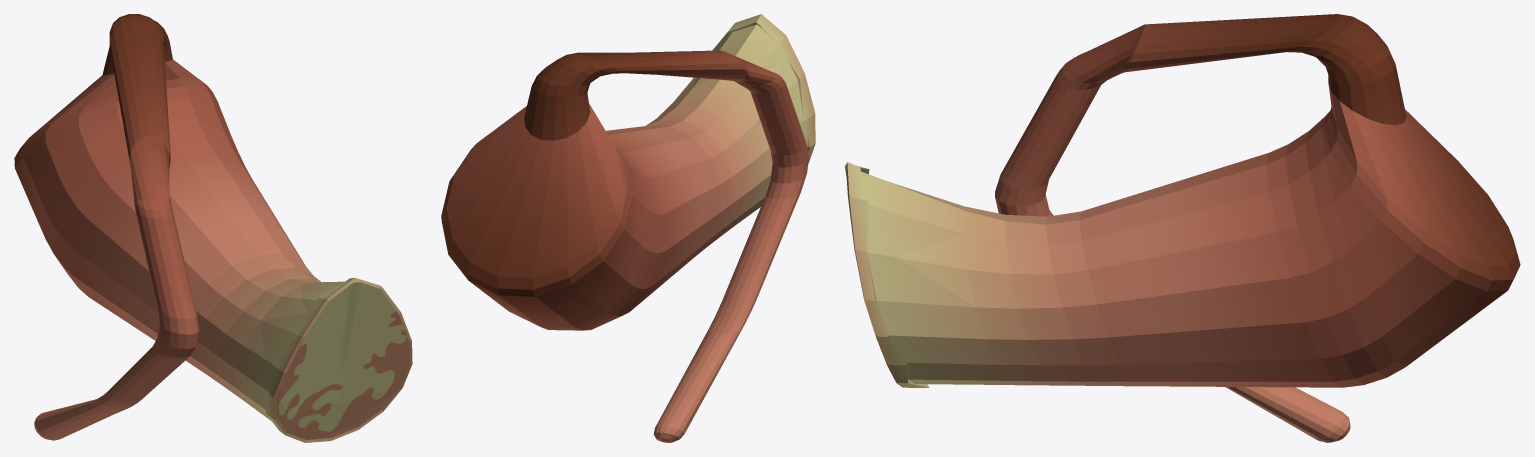
File: l3House.glb
3 renders of one model, left to right at view 1: azimuth 30°, elevation 25°; view 2: azimuth 150°, elevation 25°; view 3: azimuth 270°, elevation 25°, orthographic. The views are drawn at different scales.
Visible parts, largest first — view 1: Circle, Circle.002; view 2: Circle; view 3: Circle.
Boxes of the visible parts, x1,y1,x2,y2 form: Circle: (14, 14, 412, 442); Circle.002: (276, 282, 409, 439); Circle: (441, 14, 815, 442); Circle: (845, 14, 1520, 442).
Size of the model in its own units: 2.1 by 3.7 by 4.82.
Materials: 2 (2 with a texture image).
